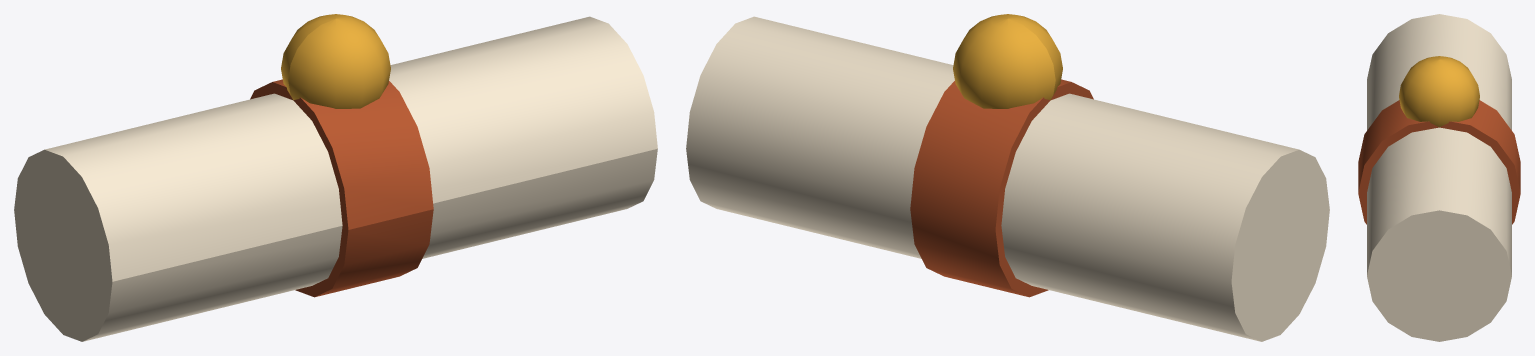
File: held-item.glb
3 views of the same model, side by side, from view 1: azimuth 30°, elevation 25°; view 2: azimuth 150°, elevation 25°; view 3: azimuth 270°, elevation 25° (orthographic). The views are drawn at different scales.
Visible parts, largest first — view 1: scroll; view 2: scroll; view 3: scroll.
Boxes of the visible parts, box(x1,y1,x2,y2) form: scroll: box(14, 14, 657, 341); scroll: box(686, 14, 1329, 341); scroll: box(1358, 14, 1520, 341).
Bounding box in the file's own units: 0.32 × 0.146 × 0.112.
